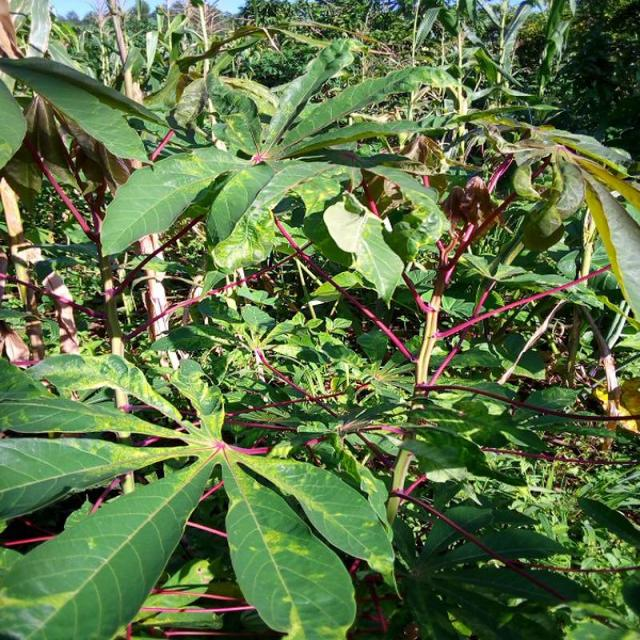cassava leaf: (0, 447, 217, 638), (219, 444, 395, 638), (0, 55, 168, 162), (322, 191, 404, 307)
